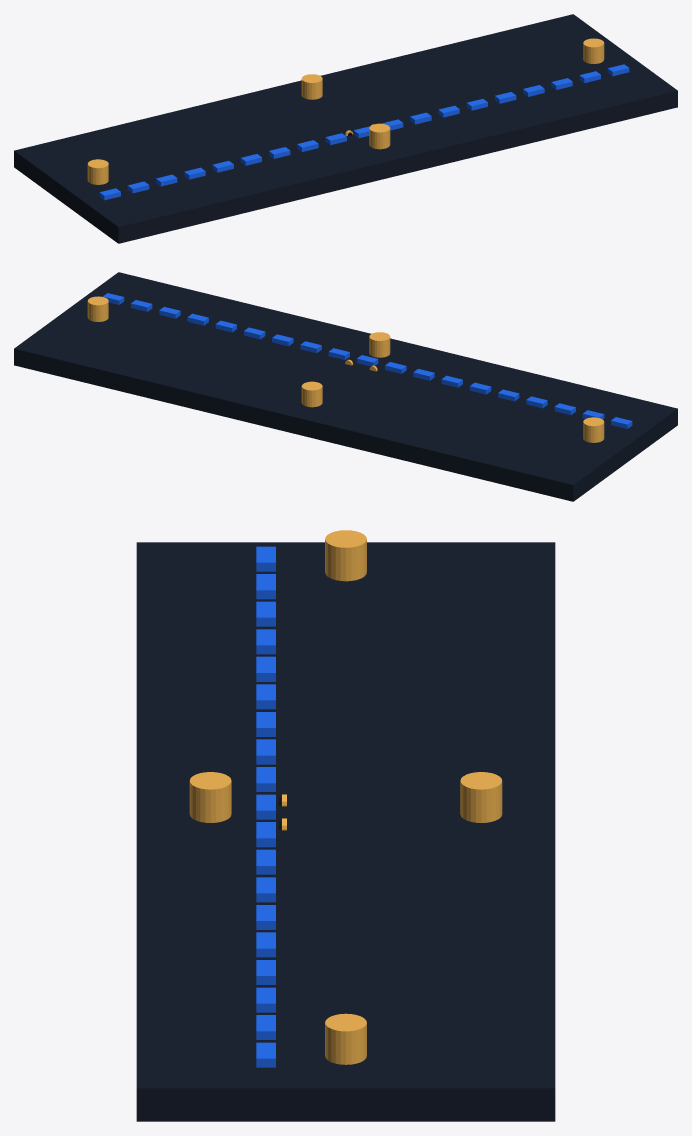
File: 05_L91_FourPulsarNavigationProjectionStage.fbx
The picture shows the model from 3 angles, top to bottom: view 1: azimuth 30°, elevation 25°; view 2: azimuth 150°, elevation 25°; view 3: azimuth 270°, elevation 25°; orthographic projection. The views are drawn at different scales.
Parts seen in each view (by area): view 1: L91_FourPulsarNavigationProjectionStage, L91_FourPulsarNavigationProjectionStage_Part_0001, L91_FourPulsarNavigationProjectionStage_Part_0003, L91_FourPulsarNavigationProjectionStage_Part_0002; view 2: L91_FourPulsarNavigationProjectionStage, L91_FourPulsarNavigationProjectionStage_Part_0001, L91_FourPulsarNavigationProjectionStage_Part_0003, L91_FourPulsarNavigationProjectionStage_Part_0002; view 3: L91_FourPulsarNavigationProjectionStage, L91_FourPulsarNavigationProjectionStage_Part_0001, L91_FourPulsarNavigationProjectionStage_Part_0003, L91_FourPulsarNavigationProjectionStage_Part_0002.
Boxes of the visible parts, x1=… form: L91_FourPulsarNavigationProjectionStage: x1=14, y1=14, x2=677, y2=243; L91_FourPulsarNavigationProjectionStage_Part_0001: x1=99, y1=78, x2=572, y2=200; L91_FourPulsarNavigationProjectionStage_Part_0003: x1=87, y1=38, x2=604, y2=184; L91_FourPulsarNavigationProjectionStage_Part_0002: x1=579, y1=64, x2=629, y2=82; L91_FourPulsarNavigationProjectionStage: x1=14, y1=272, x2=677, y2=501; L91_FourPulsarNavigationProjectionStage_Part_0001: x1=159, y1=307, x2=632, y2=428; L91_FourPulsarNavigationProjectionStage_Part_0003: x1=87, y1=296, x2=604, y2=442; L91_FourPulsarNavigationProjectionStage_Part_0002: x1=103, y1=293, x2=152, y2=311; L91_FourPulsarNavigationProjectionStage: x1=136, y1=542, x2=555, y2=1121; L91_FourPulsarNavigationProjectionStage_Part_0001: x1=256, y1=546, x2=275, y2=1012; L91_FourPulsarNavigationProjectionStage_Part_0003: x1=189, y1=530, x2=502, y2=1064; L91_FourPulsarNavigationProjectionStage_Part_0002: x1=256, y1=1015, x2=275, y2=1067.
Bounding box in the file's own units: 1050 × 61 × 340.
